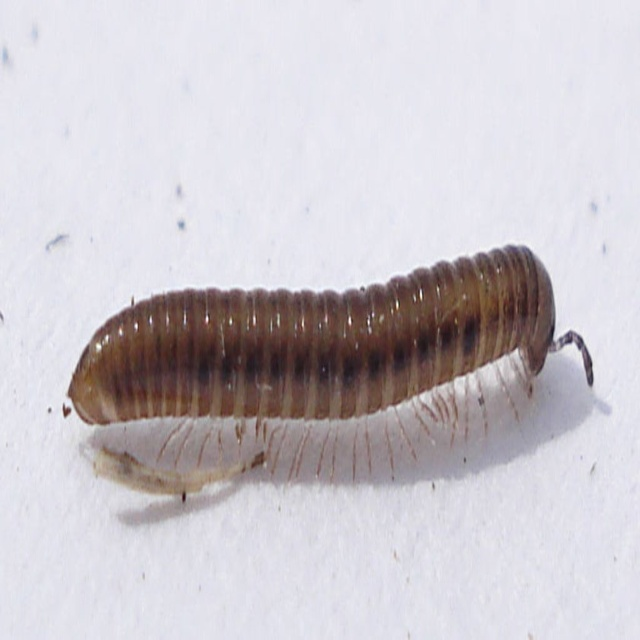Centipede: (64, 237, 593, 482)
